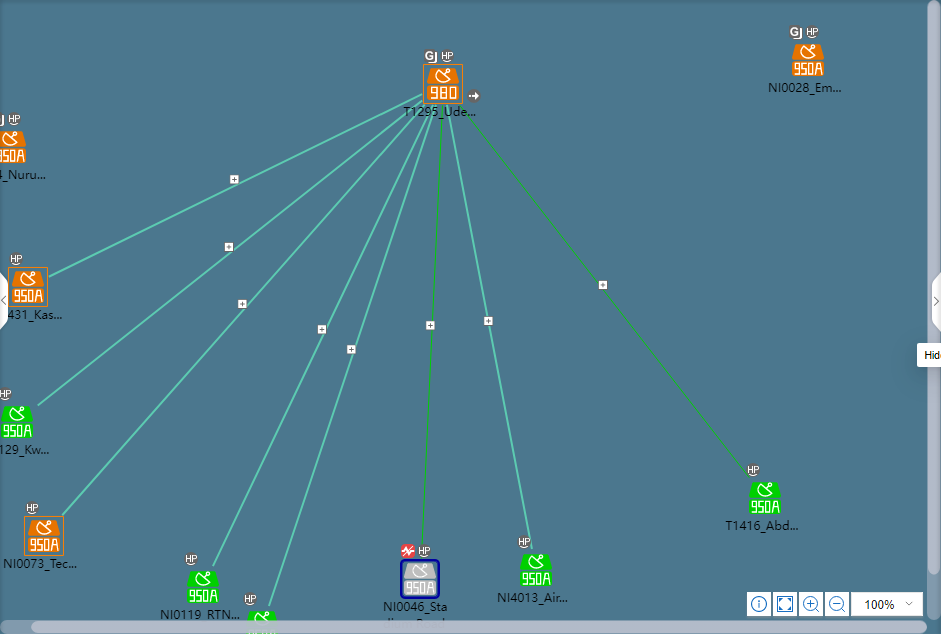Link_Blue: (60, 105, 425, 516), (35, 100, 422, 409), (211, 105, 433, 567), (266, 105, 438, 608), (49, 92, 422, 279), (446, 105, 535, 551)
Link_Green: (458, 105, 752, 481), (420, 105, 445, 556)
RTN_Gray: (401, 562, 437, 598)
RTN_Green: (519, 555, 551, 587), (0, 407, 32, 438), (187, 572, 218, 604), (749, 483, 780, 514)
RTN_Orange: (9, 269, 47, 306), (424, 67, 461, 102), (26, 520, 60, 555), (792, 44, 823, 75)
